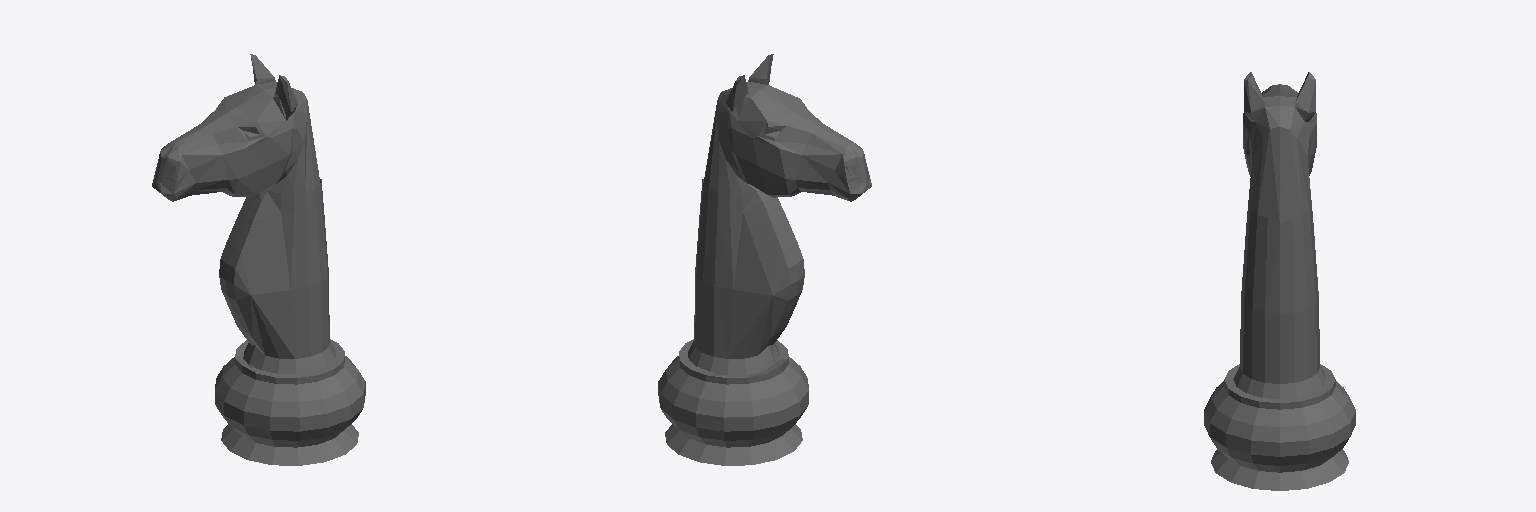
The model's file is knight_white.obj.
The picture shows the model from 3 angles: view 1: azimuth 30°, elevation 25°; view 2: azimuth 150°, elevation 25°; view 3: azimuth 270°, elevation 25°; orthographic projection.
Parts seen in each view (by area): view 1: Knight.001; view 2: Knight.001; view 3: Knight.001.
Part boxes in pixels (x1,y1,x2,y2): Knight.001: (152, 54, 365, 465); Knight.001: (658, 54, 871, 465); Knight.001: (1204, 72, 1355, 490).
Bounding box in the file's own units: 1.62 × 2.93 × 1.07.